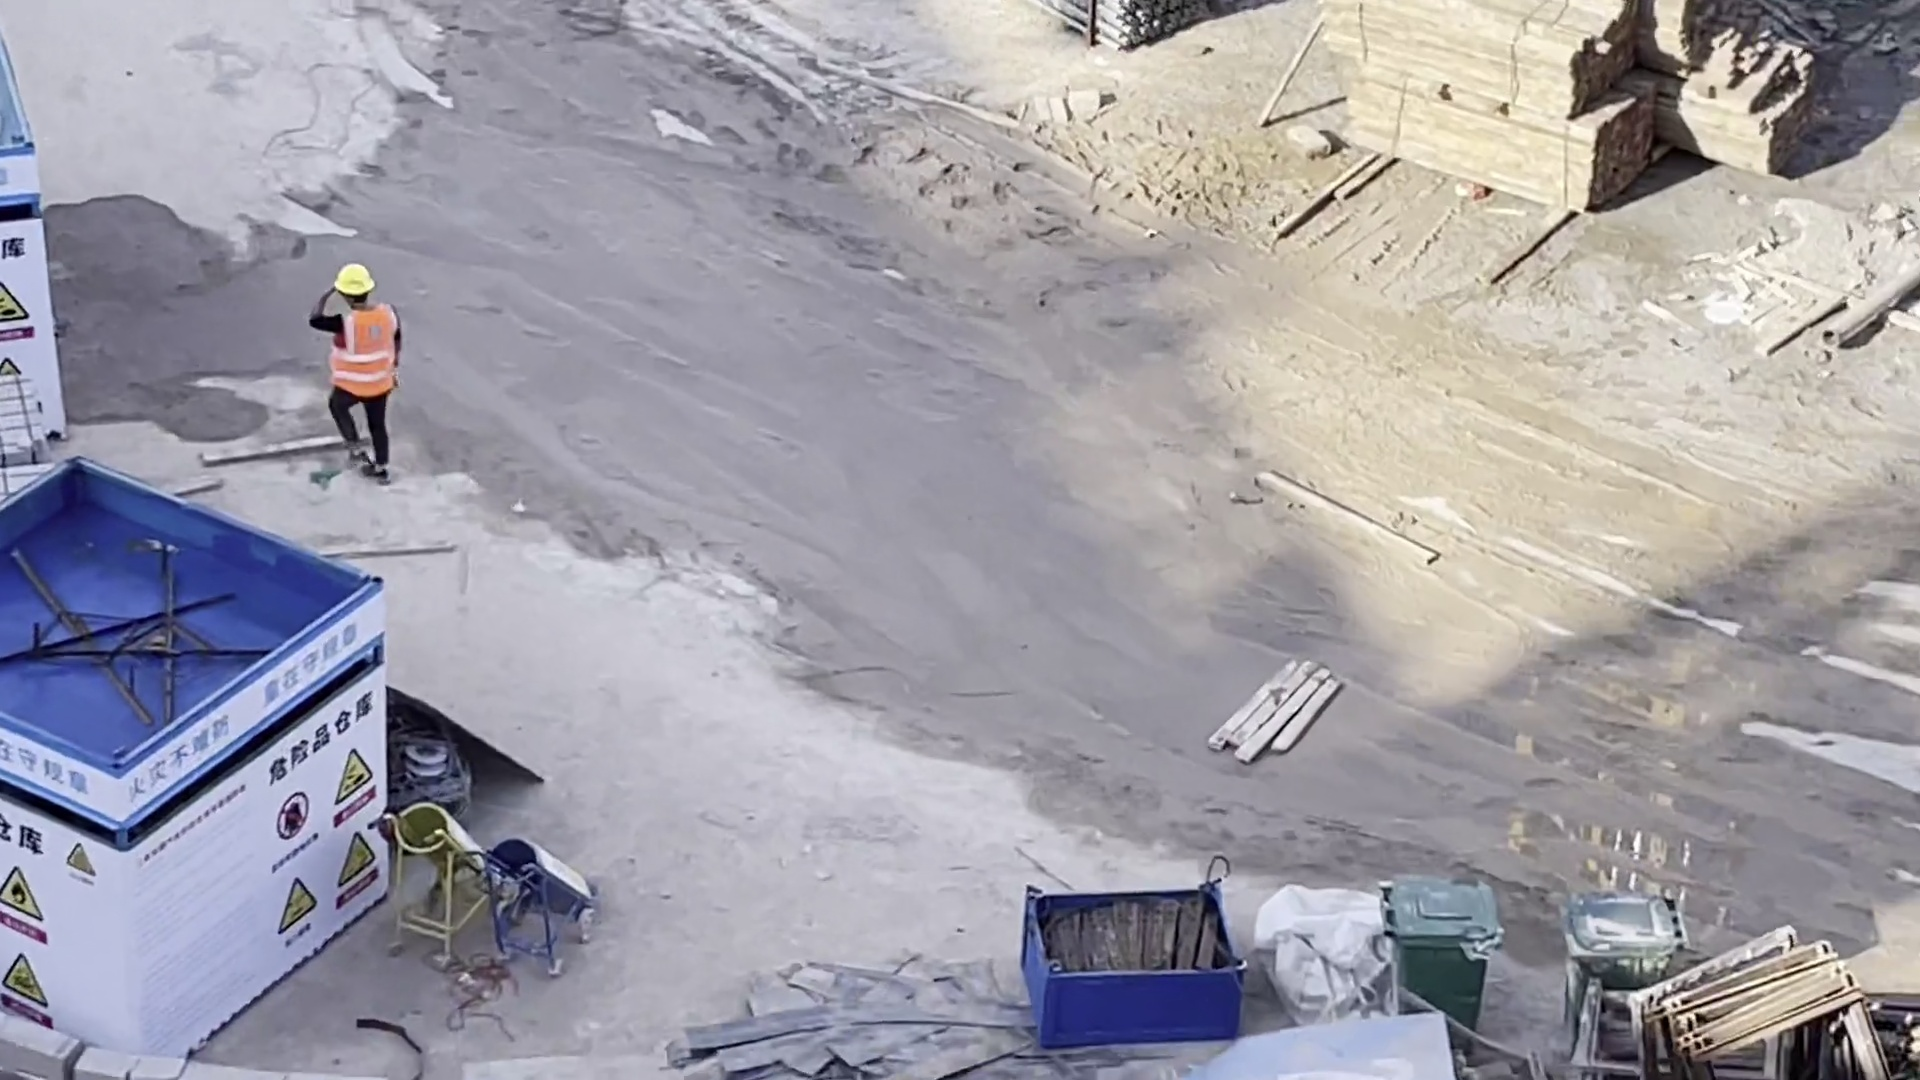helmet: (336, 268, 373, 296)
hopper: (1020, 877, 1244, 1046)
person: (316, 268, 400, 484)
scaffold: (1052, 1, 1205, 51)
slogan: (4, 596, 374, 804), (265, 749, 379, 950), (1, 846, 106, 1041), (1, 274, 39, 343)
vest: (329, 306, 396, 393)
wood: (1329, 1, 1665, 199)
